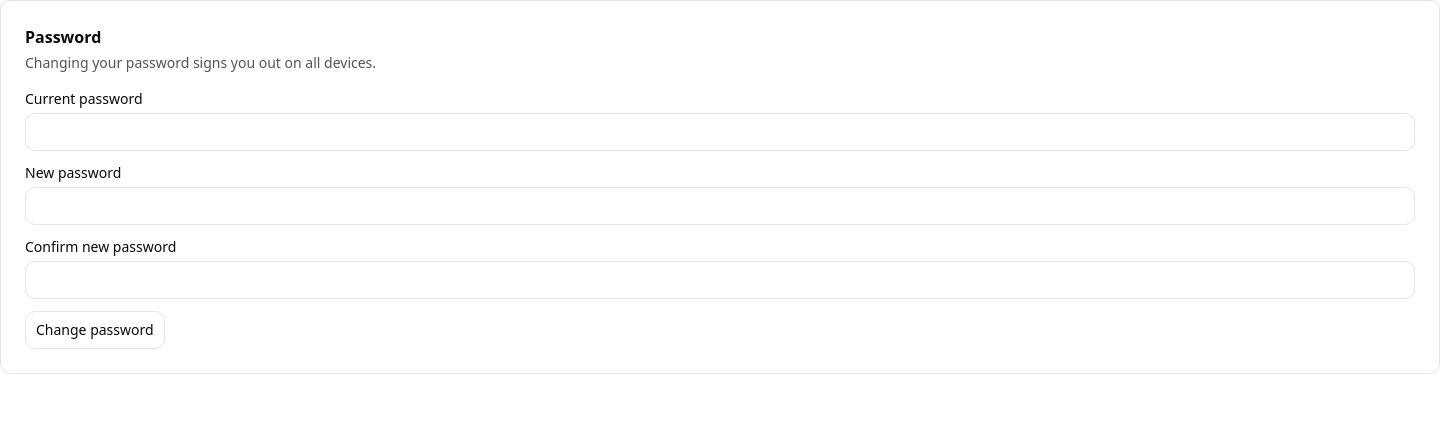
PasswordSectionLocal › surfaces backend error and does not sign out
The width and height of the screenshot is (1440, 423).
Type "wrongpass" into the password field labelled "Current password" at (720, 132), box x1=25 y1=113 x2=1415 y2=151
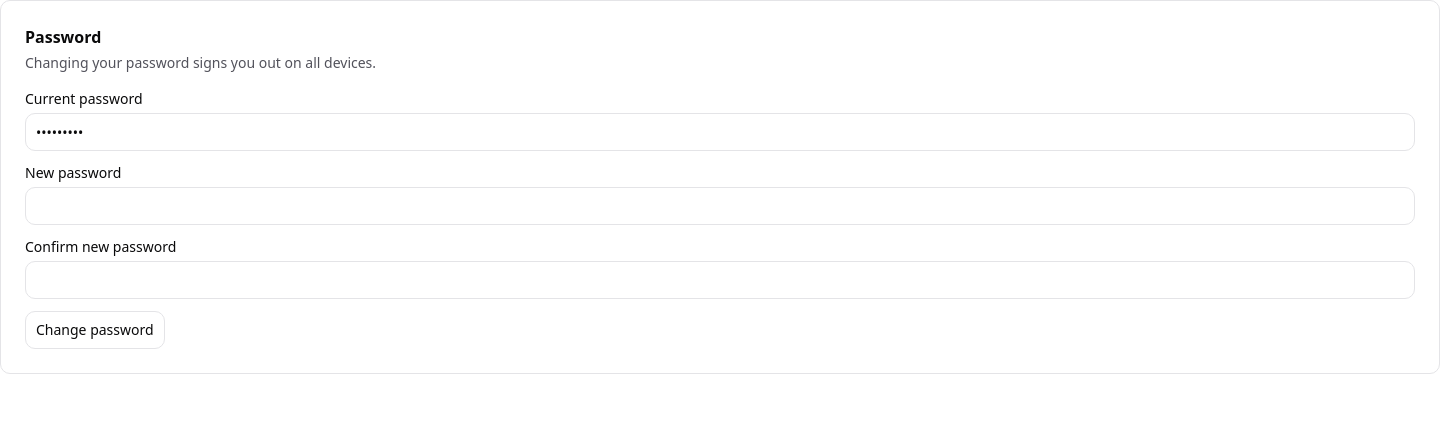
Type "newpass12" into the password field labelled "New password" at (720, 206), box x1=25 y1=187 x2=1415 y2=225
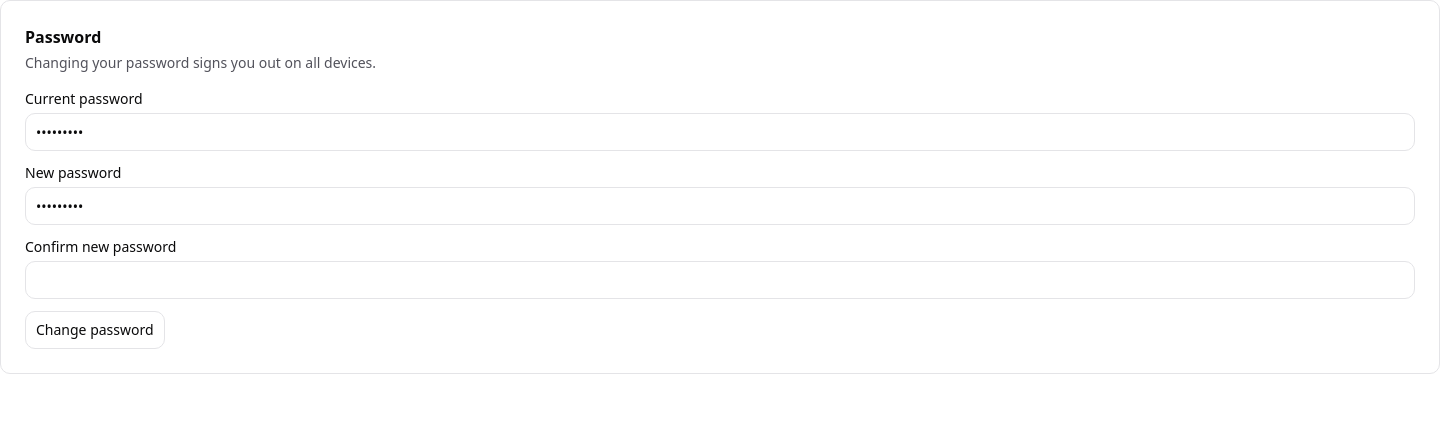
Type "newpass12" into the password field labelled "Confirm new password" at (720, 280), box x1=25 y1=261 x2=1415 y2=299
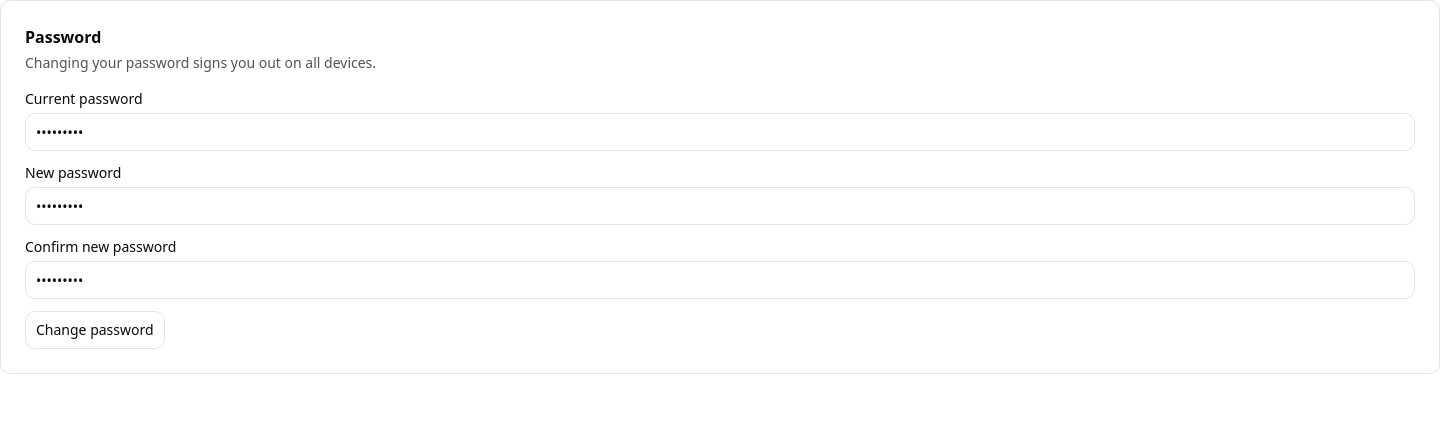
Click the button "Change password" at (95, 330), box x1=25 y1=311 x2=165 y2=349
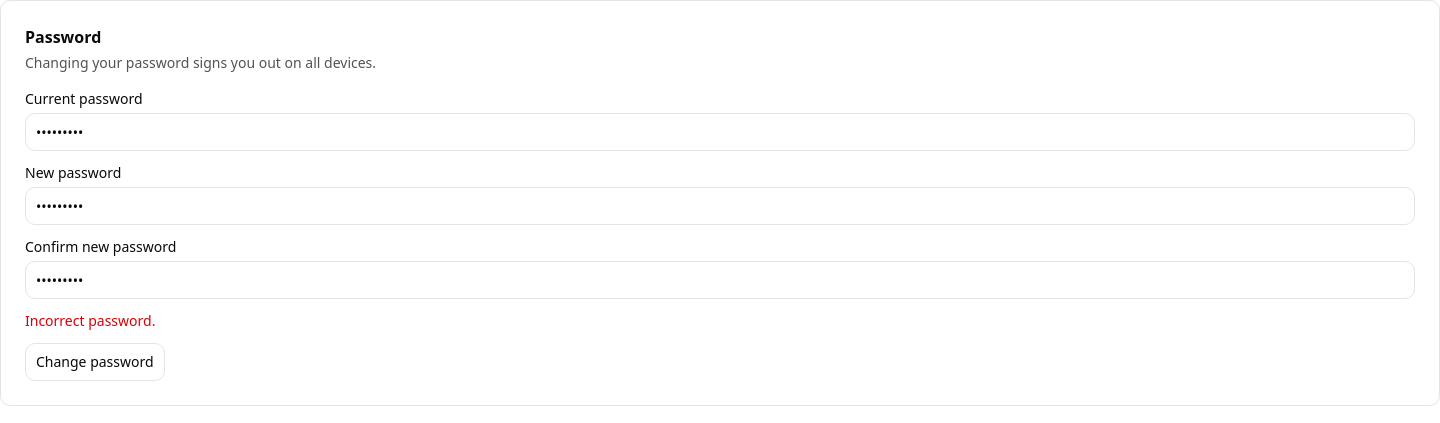
expect the text "Incorrect password." is shown: met, box x1=25 y1=311 x2=155 y2=330
